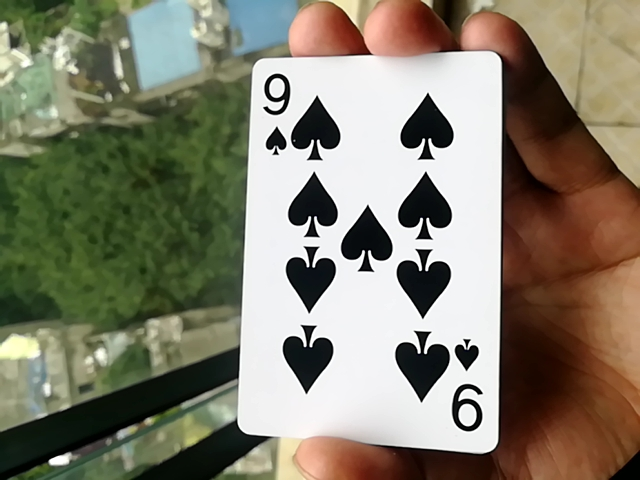ht 9: (243, 42, 489, 459)
